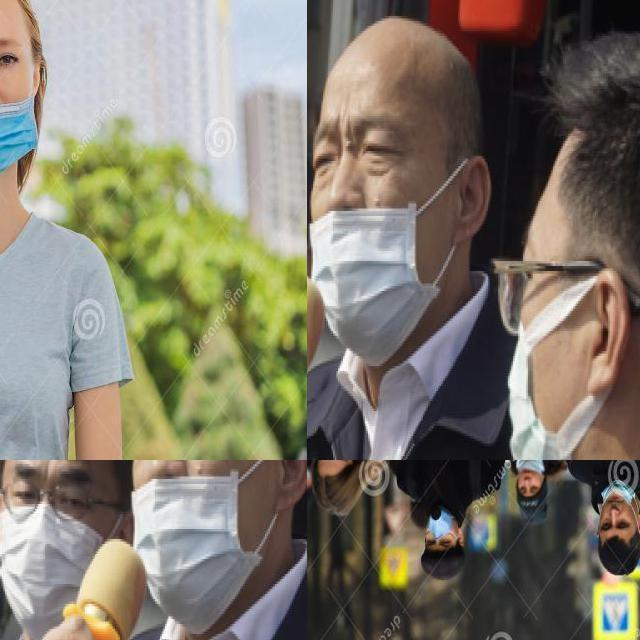hairnet: (311, 99, 416, 364), (133, 460, 239, 632), (602, 483, 634, 536), (518, 460, 542, 497)
mask: (0, 488, 128, 640)
no_gloves: (314, 6, 493, 179), (533, 19, 640, 284), (595, 530, 640, 574)
